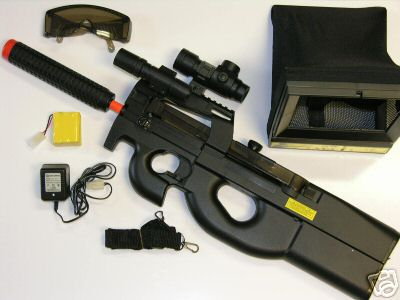rifle: (1, 36, 400, 297)
